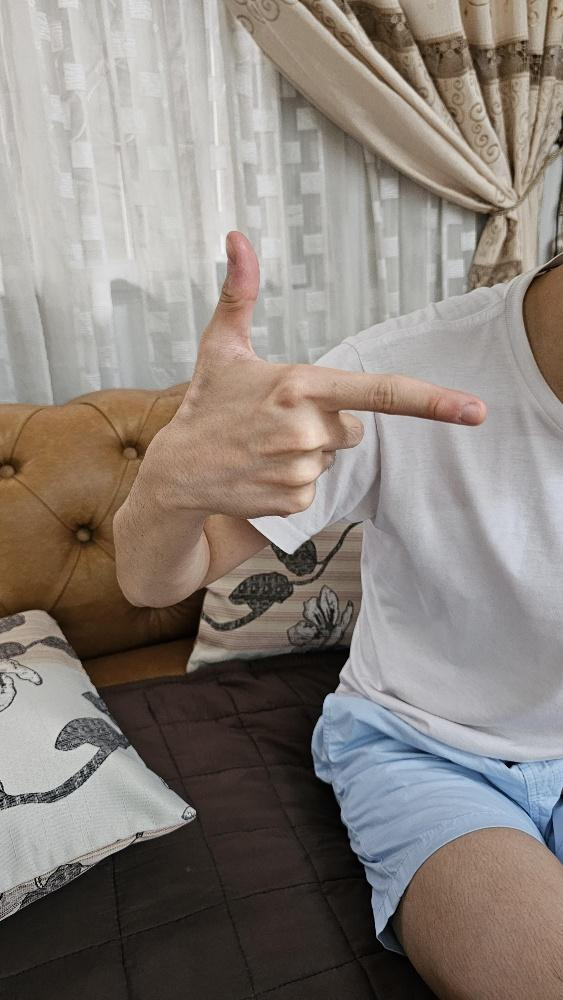g: (148, 225, 488, 521)
